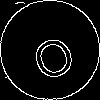O: (25, 25, 79, 83)
